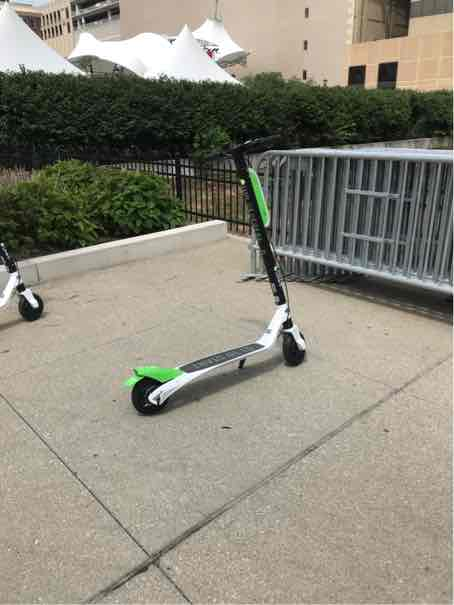scooter: (117, 129, 325, 429)
